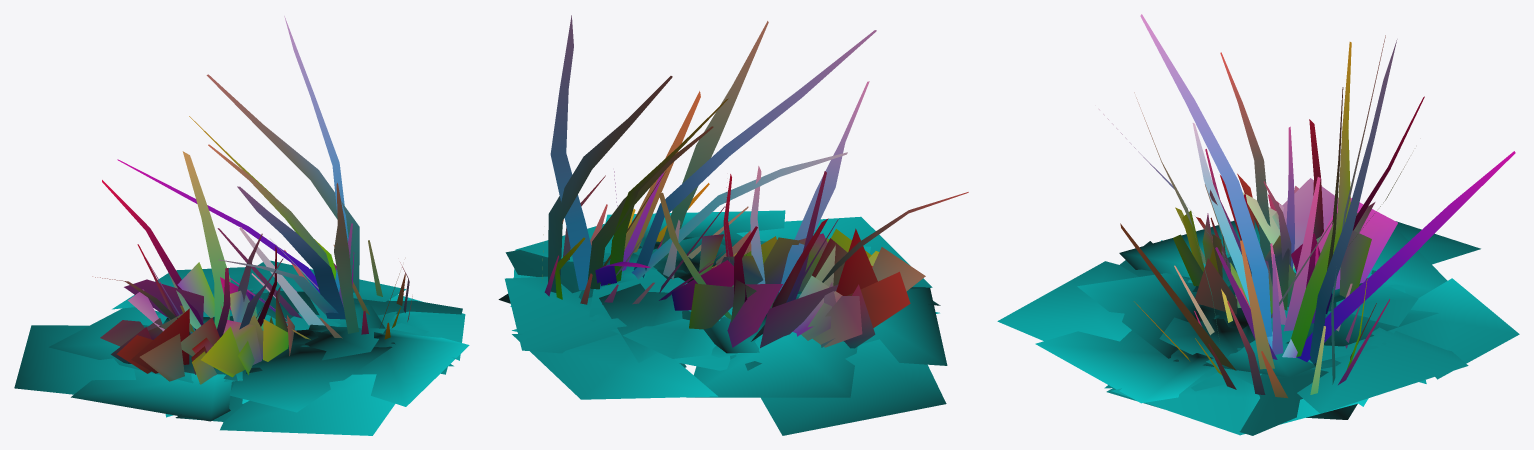
File: Wild_Grass_vczndjqja_Low_vczndjqja_VarB_LOD1.fbx
3 renders of one model, left to right at view 1: azimuth 30°, elevation 25°; view 2: azimuth 150°, elevation 25°; view 3: azimuth 270°, elevation 25°, orthographic. The views are drawn at different scales.
Parts seen in each view (by area): view 1: _j73a_VarB_LOD3; view 2: _j73a_VarB_LOD3; view 3: _j73a_VarB_LOD3.
Part boxes in pixels (bbox=[...]): _j73a_VarB_LOD3: bbox=[14, 16, 469, 435]; _j73a_VarB_LOD3: bbox=[498, 15, 968, 435]; _j73a_VarB_LOD3: bbox=[997, 14, 1519, 435].
Bounding box in the file's own units: 65.19 × 43.86 × 60.16.
